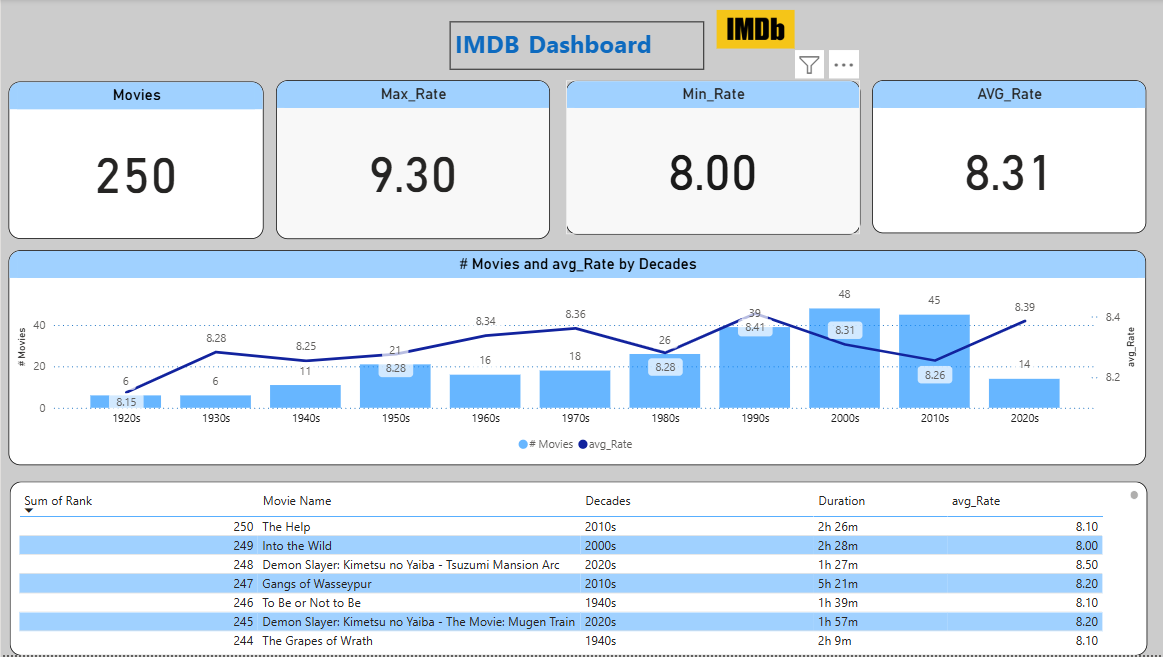

The dashboard page shown, as its layout file describes it:
{"tool":"powerbi","page":{"name":"Page 1","canvas":[1280,720],"ordinal":0},"visuals":[{"type":"card","title":" Movies","fields":{"Values":["Top 250 Movies.# Movies"]},"box":[8.8,90.5,280.1,173.1],"z":0},{"type":"card","title":"Max_Rate","fields":{"Values":["Top 250 Movies.max_rate"]},"box":[301.5,89.5,300.5,174.1],"z":1000},{"type":"card","title":"Min_Rate","fields":{"Values":["Top 250 Movies.min_rate"]},"box":[619.6,88.5,322.9,169.2],"z":2000},{"type":"card","title":"AVG_Rate","fields":{"Values":["Top 250 Movies.ave_Rate"]},"box":[957.1,89.5,300.5,168.3],"z":3000},{"type":"textbox","box":[493.1,25.3,279.1,52.5],"z":4000},{"type":"image","box":[781,0,95.3,66.1],"z":5000},{"type":"lineClusteredColumnComboChart","fields":{"Category":["Top 250 Movies.Decades"],"Y":["Top 250 Movies.# Movies"],"Y2":["Top 250 Movies.avg_Rate"]},"box":[8.8,275.3,1248.9,236.4],"z":6000},{"type":"tableEx","fields":{"Values":["Sum(Top 250 Movies.Rank)","Top 250 Movies.Movie Name","Top 250 Movies.Decades","Top 250 Movies.Duration","Top 250 Movies.avg_Rate"]},"box":[9,529,1249,191],"z":7000}]}

Visuals, with their boxes in screenshot pixels (x1, y1, x2, y2), scaled from the page's 1280x720 canvas onto the 1163x657 screenshot:
" Movies" card: 8,83,262,241
"Max_Rate" card: 274,82,547,241
"Min_Rate" card: 563,81,856,235
"AVG_Rate" card: 870,82,1143,235
textbox: 448,23,702,71
image: 710,0,796,60
lineClusteredColumnComboChart - Top 250 Movies.Decades x Top 250 Movies.# Movies: 8,251,1143,467
tableEx - Sum(Top 250 Movies.Rank) x Top 250 Movies.Movie Name: 8,483,1143,656
